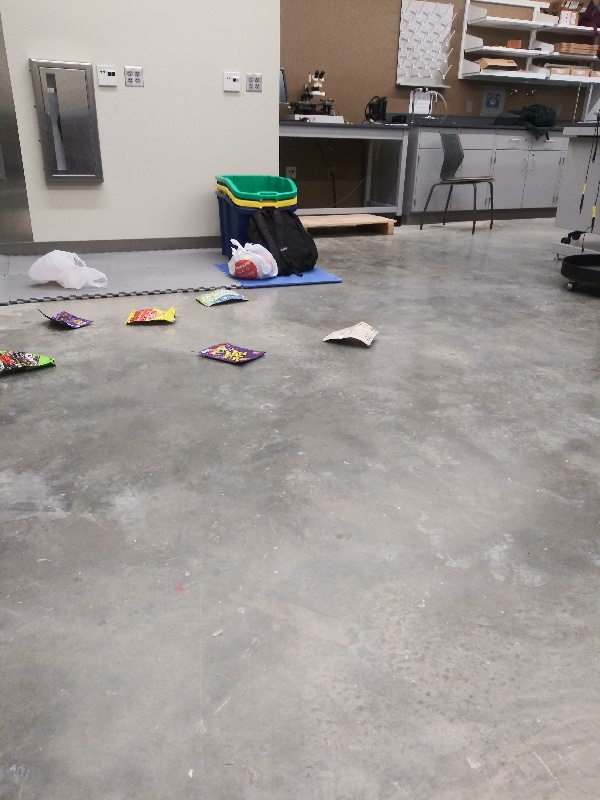bag: (194, 341, 268, 369), (318, 319, 381, 349), (1, 346, 60, 376), (38, 305, 96, 330), (190, 287, 252, 306), (120, 306, 180, 325)
